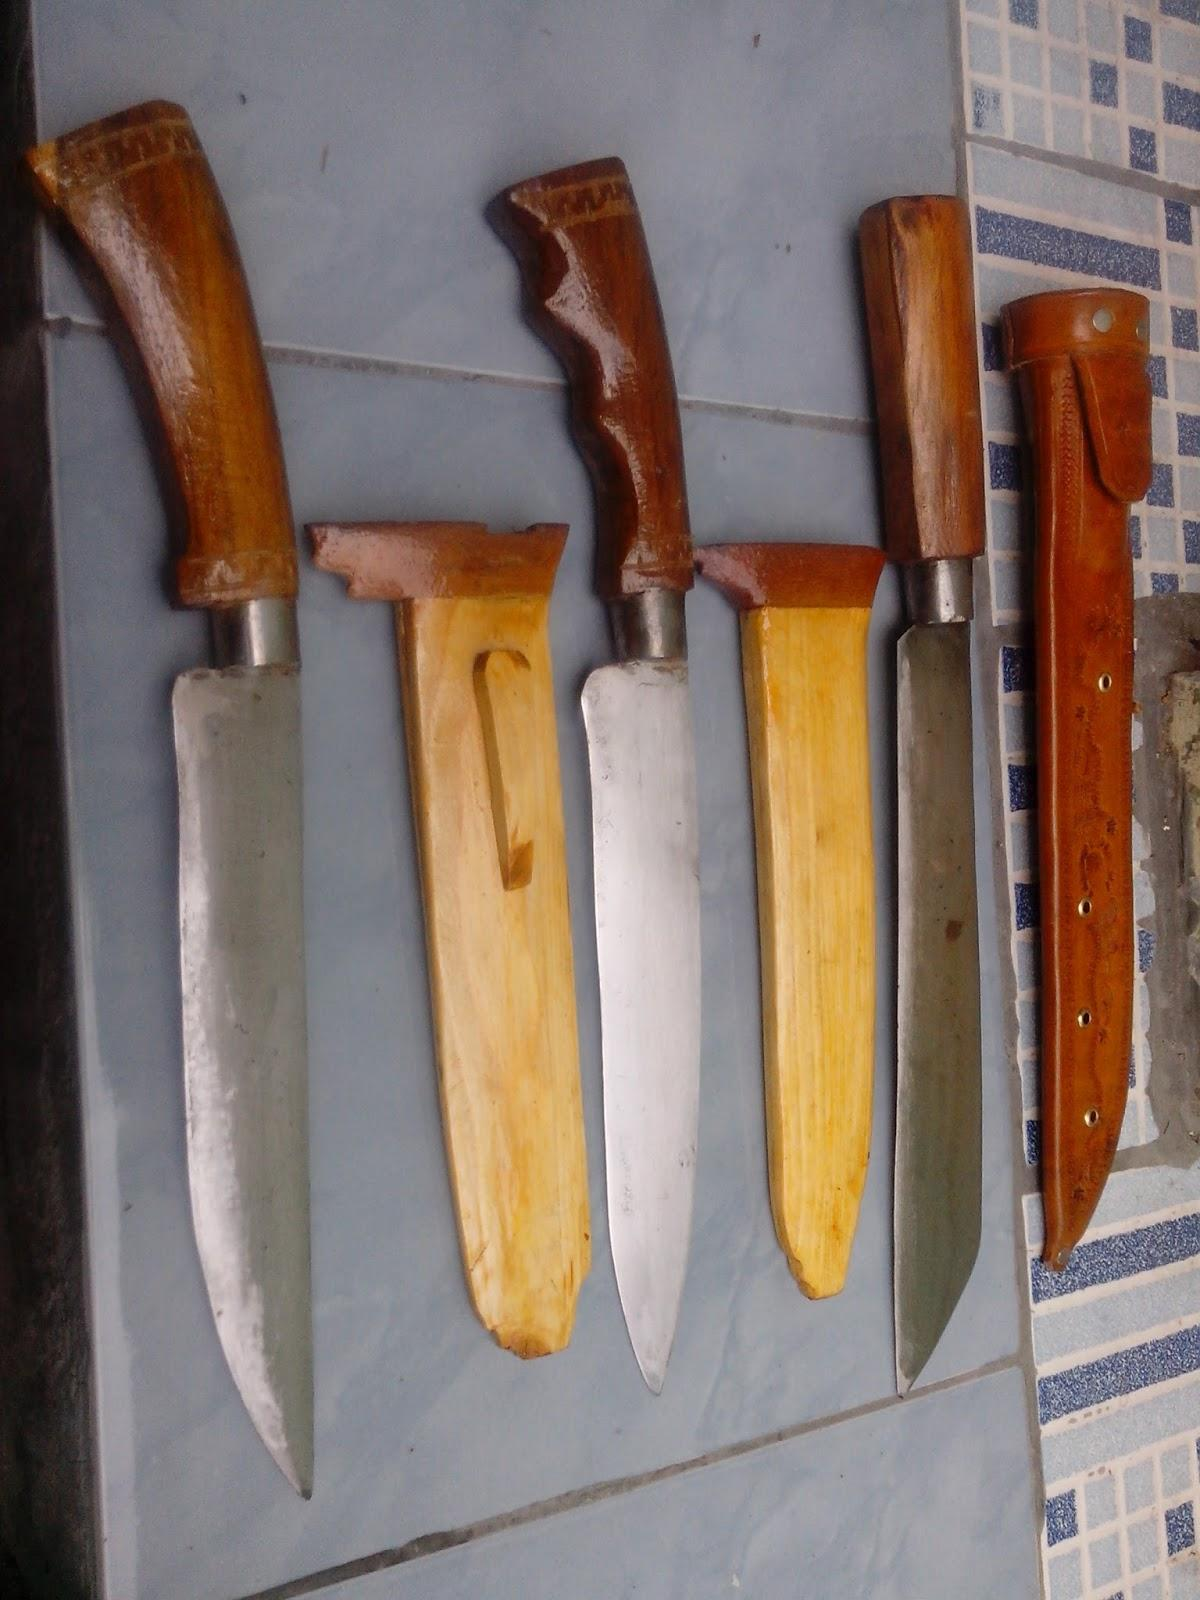facao: (25, 87, 345, 1511), (473, 125, 717, 1368), (856, 178, 1002, 1361)
